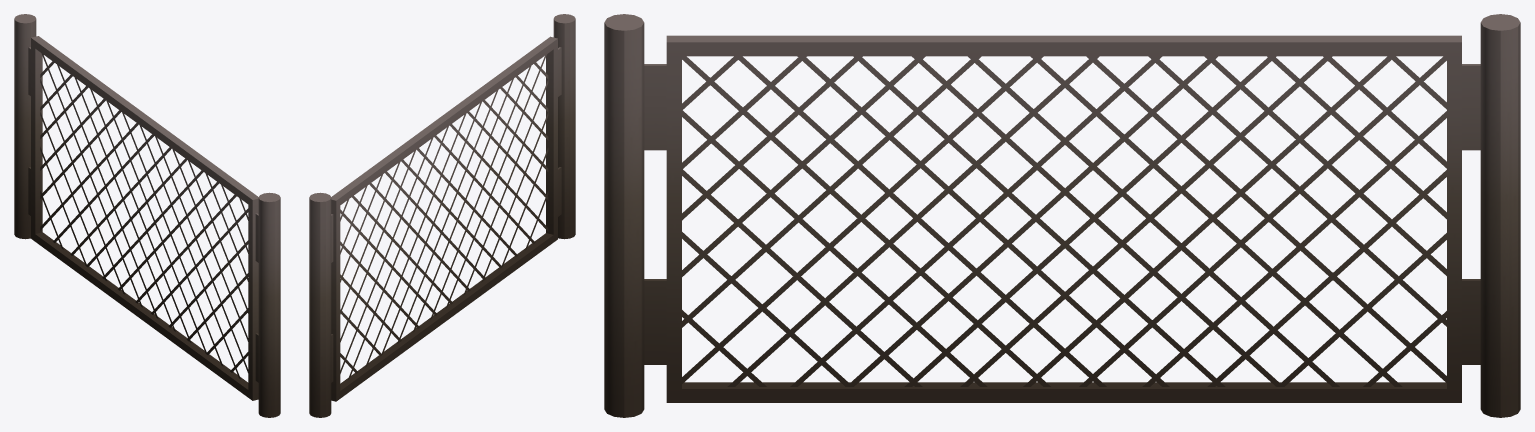
Rendered from FenceMetal3.fbx.
The picture shows the model from 3 angles, left to right: view 1: azimuth 30°, elevation 25°; view 2: azimuth 150°, elevation 25°; view 3: azimuth 270°, elevation 25°; orthographic projection. The views are drawn at different scales.
Visible parts, largest first — view 1: Plane.016; view 2: Plane.016; view 3: Plane.016.
Part boxes in pixels (box(x1,y1,x2,y2)): Plane.016: box(14, 14, 280, 417); Plane.016: box(309, 14, 575, 417); Plane.016: box(604, 14, 1520, 417).
Bounding box in the file's own units: 20.03 × 215 × 461.
